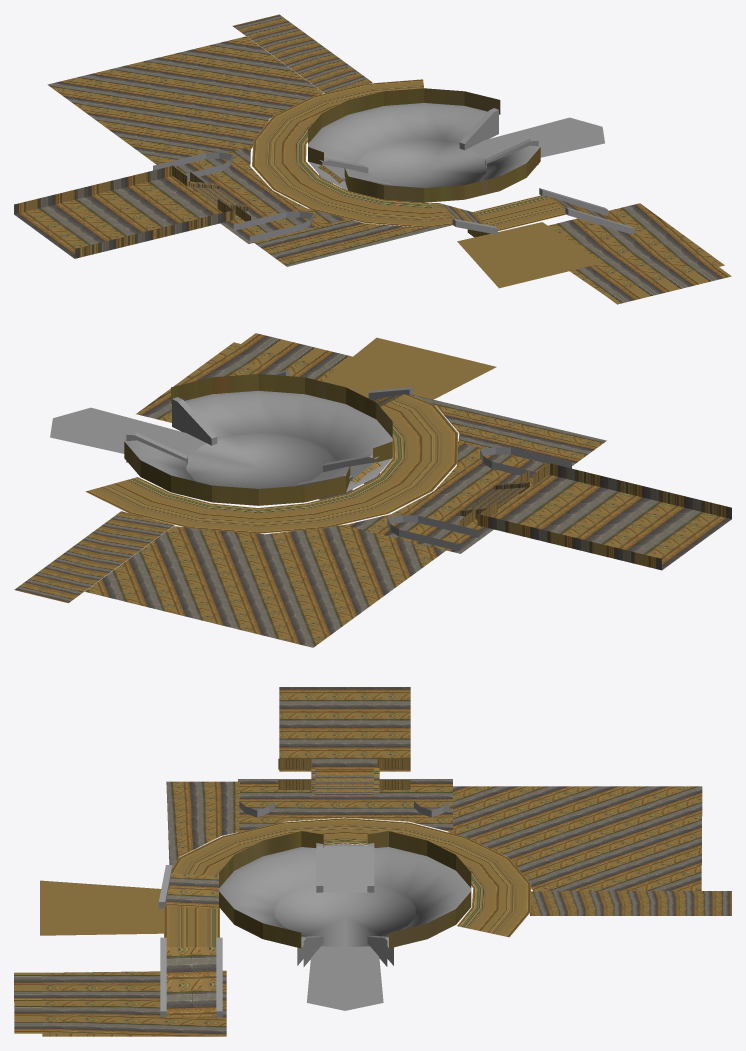
Rendered from pengzhuang_zhuchengdimian.FBX.
3 renders of one model, top to bottom at view 1: azimuth 30°, elevation 25°; view 2: azimuth 150°, elevation 25°; view 3: azimuth 270°, elevation 25°, orthographic. The views are drawn at different scales.
Visible parts, largest first — view 1: pengzhuang_zhuchengdimian; view 2: pengzhuang_zhuchengdimian; view 3: pengzhuang_zhuchengdimian.
Boxes of the visible parts, box(x1,y1,x2,y2) form: pengzhuang_zhuchengdimian: box(14, 14, 731, 304); pengzhuang_zhuchengdimian: box(14, 333, 731, 647); pengzhuang_zhuchengdimian: box(14, 687, 731, 1036).
Size of the model in its own units: 116 by 119 by 14.31.
